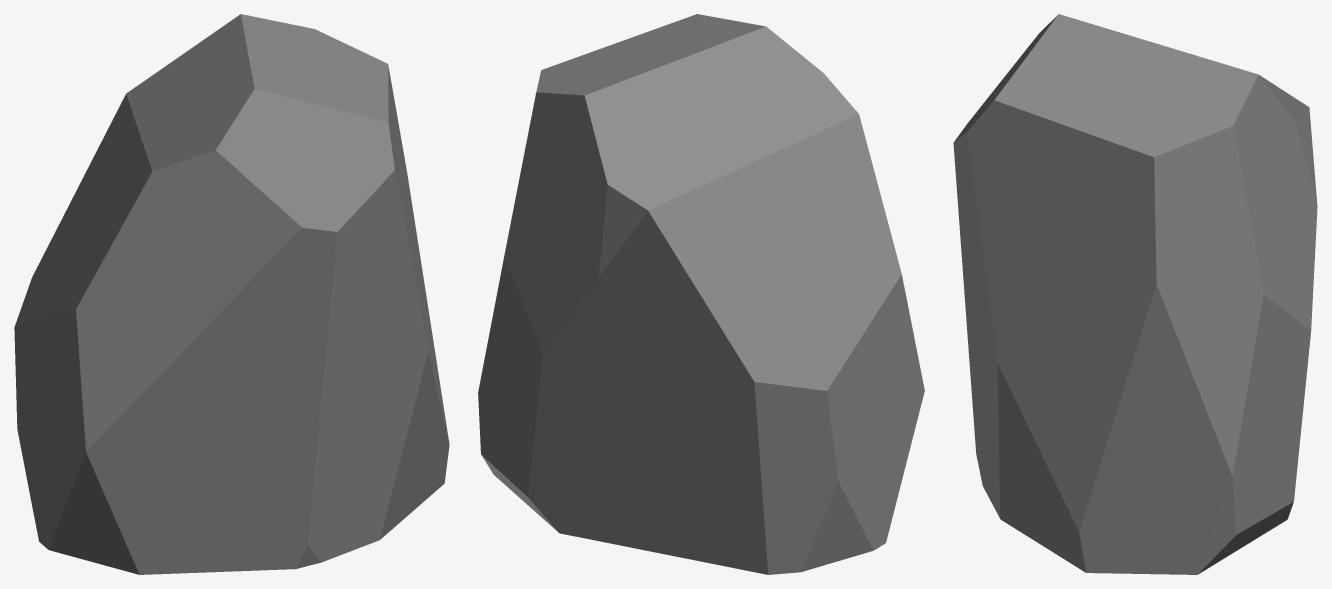
File: Stone_5.fbx
3 renders of one model, left to right at view 1: azimuth 30°, elevation 25°; view 2: azimuth 150°, elevation 25°; view 3: azimuth 270°, elevation 25°, orthographic. The views are drawn at different scales.
Visible parts, largest first — view 1: Stone_5; view 2: Stone_5; view 3: Stone_5.
Boxes of the visible parts, x1,y1,x2,y2 form: Stone_5: (14, 14, 449, 574); Stone_5: (478, 14, 924, 574); Stone_5: (953, 14, 1317, 574).
Size of the model in its own units: 83.72 by 97.75 by 70.29.
